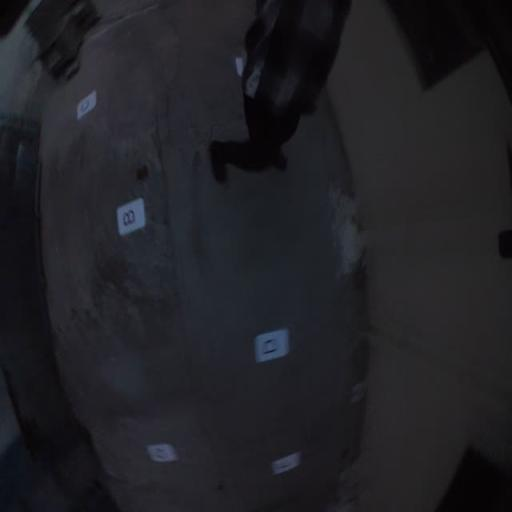B: (116, 197, 147, 236)
C: (76, 90, 98, 122), (147, 443, 177, 463)
D: (254, 327, 290, 365)
E: (271, 452, 301, 476)
